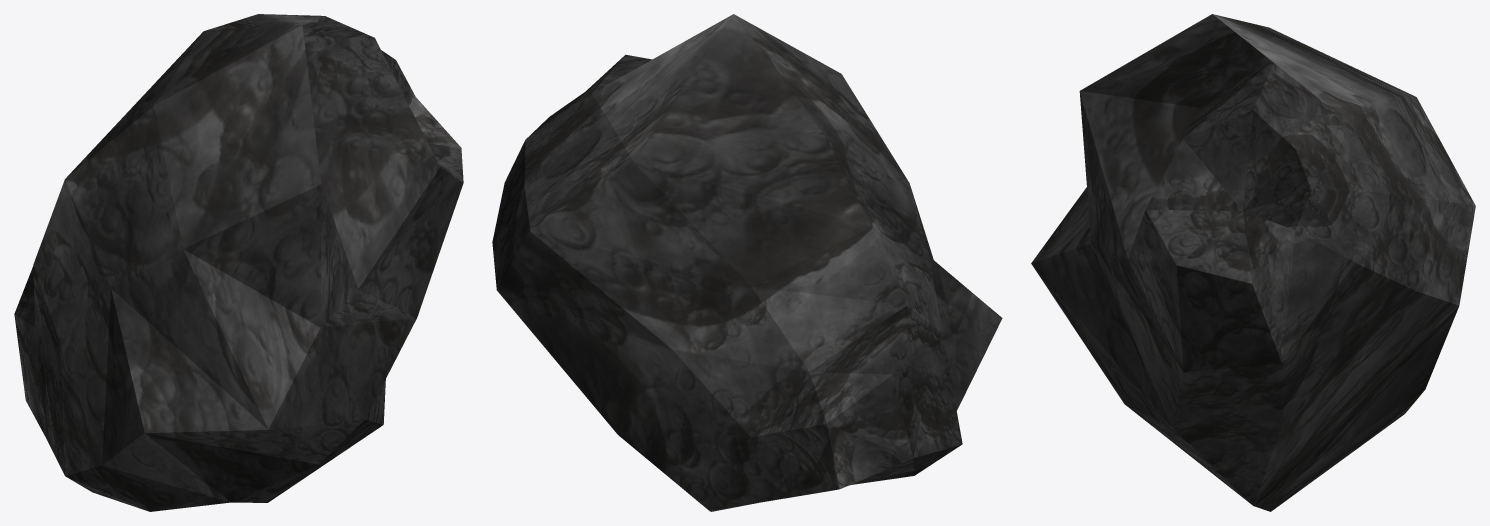
File: asteroid01_wtf.obj
3 views of the same model, side by side, from view 1: azimuth 30°, elevation 25°; view 2: azimuth 150°, elevation 25°; view 3: azimuth 270°, elevation 25° (orthographic). The views are drawn at different scales.
Visible parts, largest first — view 1: group2; view 2: group2; view 3: group2.
Boxes of the visible parts, x1,y1,x2,y2 form: group2: (14,14,463,511); group2: (492,14,1002,511); group2: (1031,14,1475,511).
Size of the model in its own units: 579 by 660 by 531.
